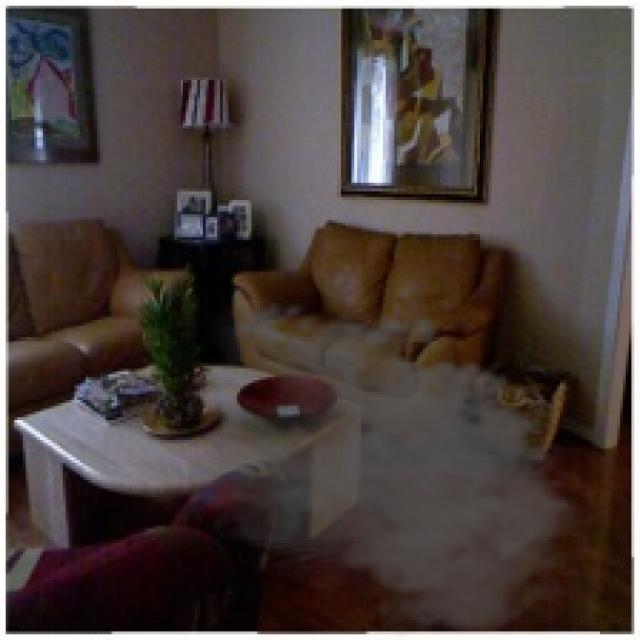smoke: (189, 292, 600, 637)
